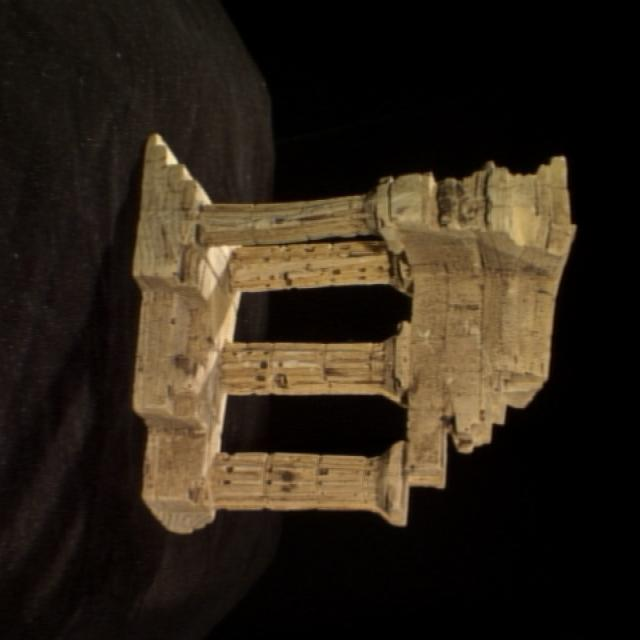Instance-Segmentation: (133, 133, 574, 533)
